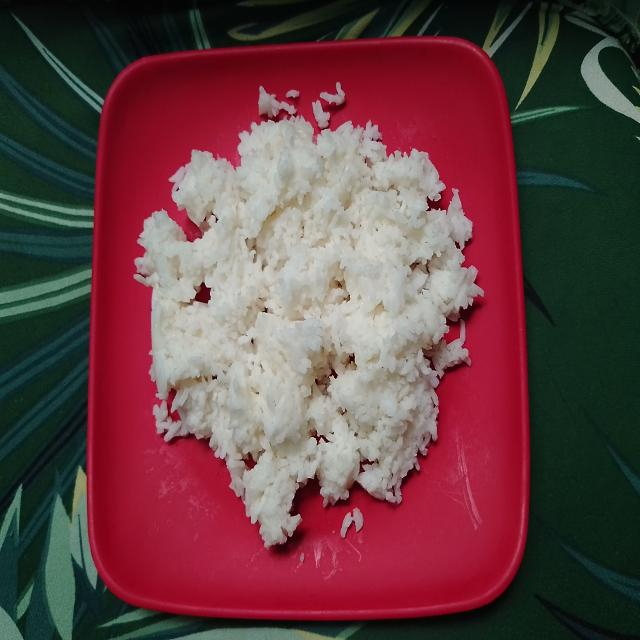Chicken -Chicken Inasal-: (120, 81, 487, 560)
